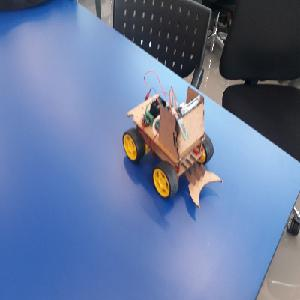Robot: (122, 85, 223, 209)
